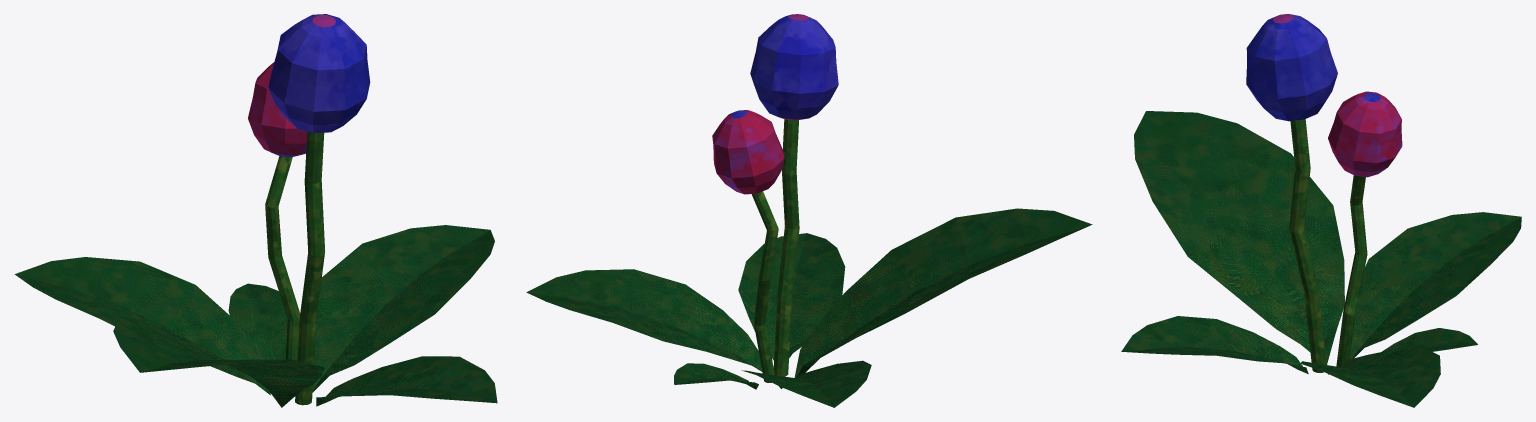
Rendered from Sm_Flowers6.fbx.
3 renders of one model, left to right at view 1: azimuth 30°, elevation 25°; view 2: azimuth 150°, elevation 25°; view 3: azimuth 270°, elevation 25°, orthographic. The views are drawn at different scales.
Parts seen in each view (by area): view 1: Sm_Flowers6; view 2: Sm_Flowers6; view 3: Sm_Flowers6.
Part boxes in pixels (x1,y1,x2,y2): Sm_Flowers6: [14, 14, 497, 407]; Sm_Flowers6: [526, 14, 1092, 407]; Sm_Flowers6: [1121, 14, 1521, 407].
Size of the model in its own units: 80.51 by 61.67 by 62.76.
